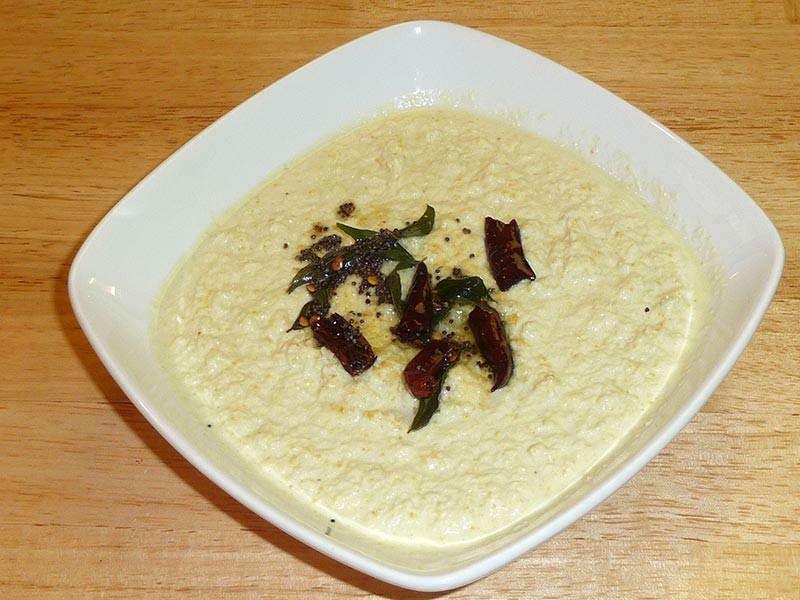CoconutChutney: (163, 105, 708, 540)
